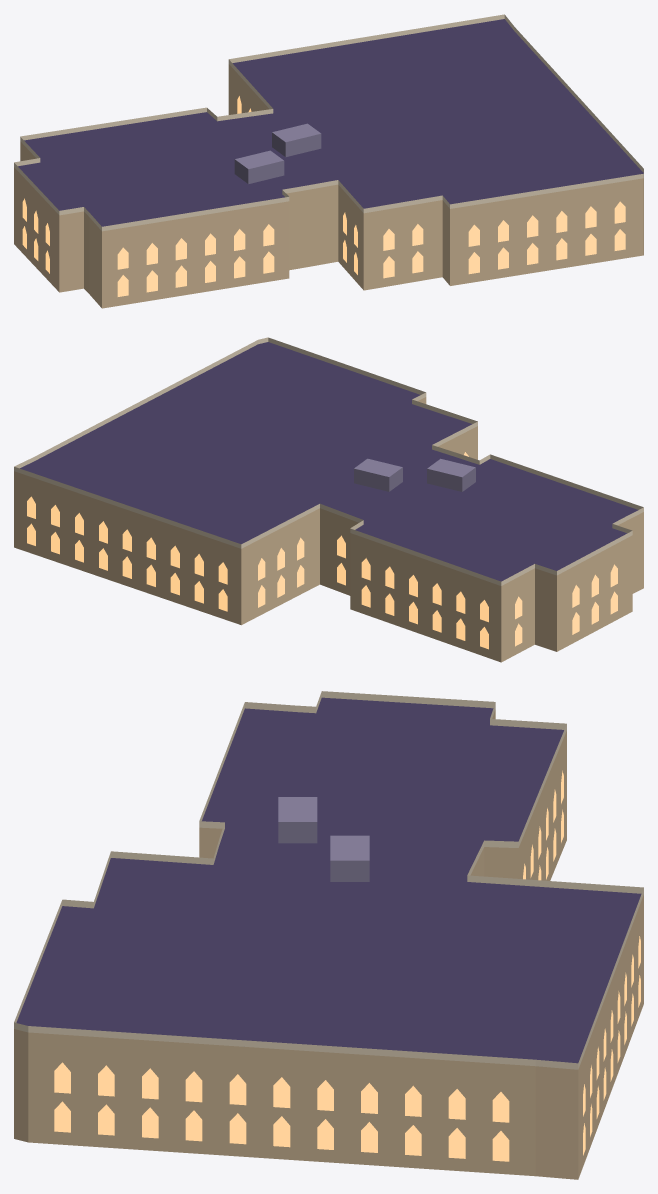
3 views of the same model, one above another, from view 1: azimuth 30°, elevation 25°; view 2: azimuth 150°, elevation 25°; view 3: azimuth 270°, elevation 25° (orthographic). The views are drawn at different scales.
Parts seen in each view (by area): view 1: campus/b-100-0; view 2: campus/b-100-0; view 3: campus/b-100-0.
Boxes of the visible parts, x1,y1,x2,y2 form: campus/b-100-0: (14,14,643,308); campus/b-100-0: (14,337,643,662); campus/b-100-0: (14,691,643,1179).
Size of the model in its own units: 67.46 by 11.1 by 48.26.
